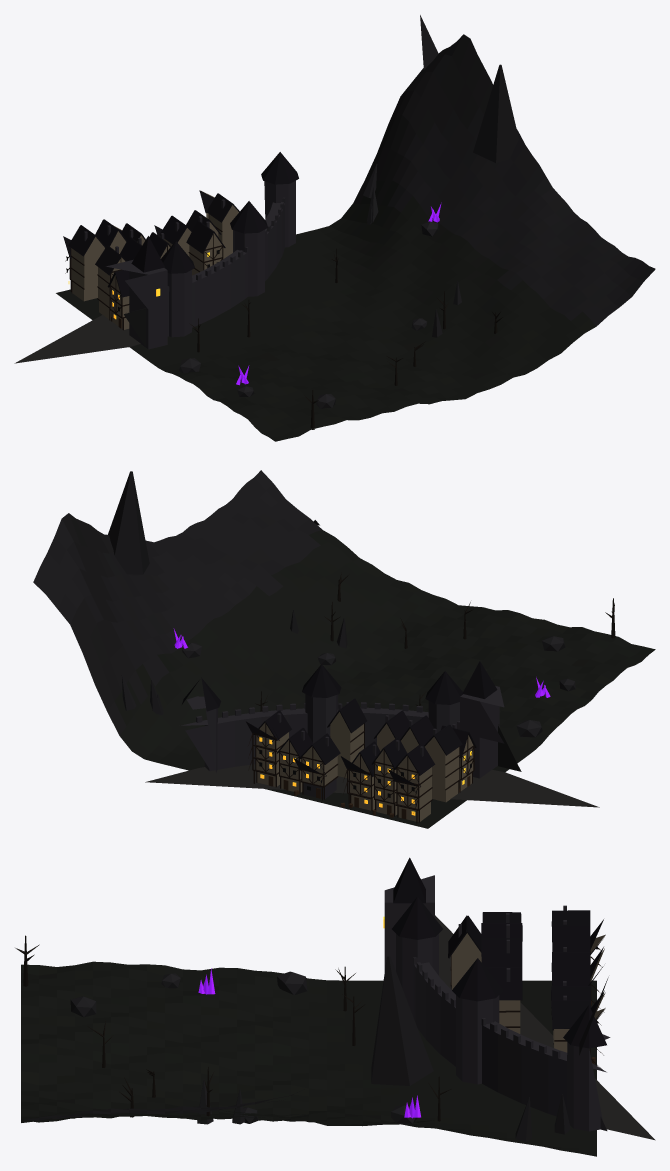
The model's file is chunk-6-5.glb.
3 renders of one model, top to bottom at view 1: azimuth 30°, elevation 25°; view 2: azimuth 150°, elevation 25°; view 3: azimuth 270°, elevation 25°, orthographic. The views are drawn at different scales.
Visible parts, largest first — view 1: Ash_Ground, Mountain_Rock, Castle_Stone, Roof_Slate, Cliff_Rock, Plaster, Cobblestone, Dark_Rock, Timber, Dead_Wood; view 2: Ash_Ground, Mountain_Rock, Castle_Stone, Plaster, Roof_Slate, Cliff_Rock, Cobblestone, Timber, Dark_Rock, Dead_Wood; view 3: Ash_Ground, Castle_Stone, Roof_Slate, Mountain_Rock, Dark_Rock, Cobblestone, Plaster, Dead_Wood, Cursed_Crystal.
Part boxes in pixels (x1,y1,x2,y2): Ash_Ground: (56, 180, 596, 441); Mountain_Rock: (387, 15, 655, 326); Castle_Stone: (84, 180, 295, 349); Roof_Slate: (63, 152, 298, 297); Cliff_Rock: (353, 34, 492, 205); Plaster: (71, 191, 238, 329); Cobblestone: (14, 315, 140, 363); Dark_Rock: (179, 164, 461, 408); Timber: (65, 214, 223, 330); Dead_Wood: (189, 248, 502, 429); Ash_Ground: (114, 530, 655, 828); Mountain_Rock: (33, 470, 322, 686); Castle_Stone: (181, 686, 504, 799); Plaster: (256, 712, 473, 821); Roof_Slate: (182, 661, 497, 787); Cliff_Rock: (62, 513, 147, 735); Cobblestone: (145, 764, 599, 807); Timber: (248, 723, 474, 823); Dark_Rock: (121, 520, 575, 737); Dead_Wood: (255, 573, 615, 711); Ash_Ground: (21, 961, 596, 1156); Castle_Stone: (384, 875, 610, 1131); Roof_Slate: (392, 857, 606, 1048); Mountain_Rock: (21, 955, 608, 1121); Dark_Rock: (70, 971, 570, 1141); Cobblestone: (435, 915, 655, 1140); Plaster: (451, 933, 605, 1052); Dead_Wood: (15, 935, 451, 1121); Cursed_Crystal: (198, 968, 420, 1118).
Size of the model in its own units: 104 by 40.27 by 89.14.
